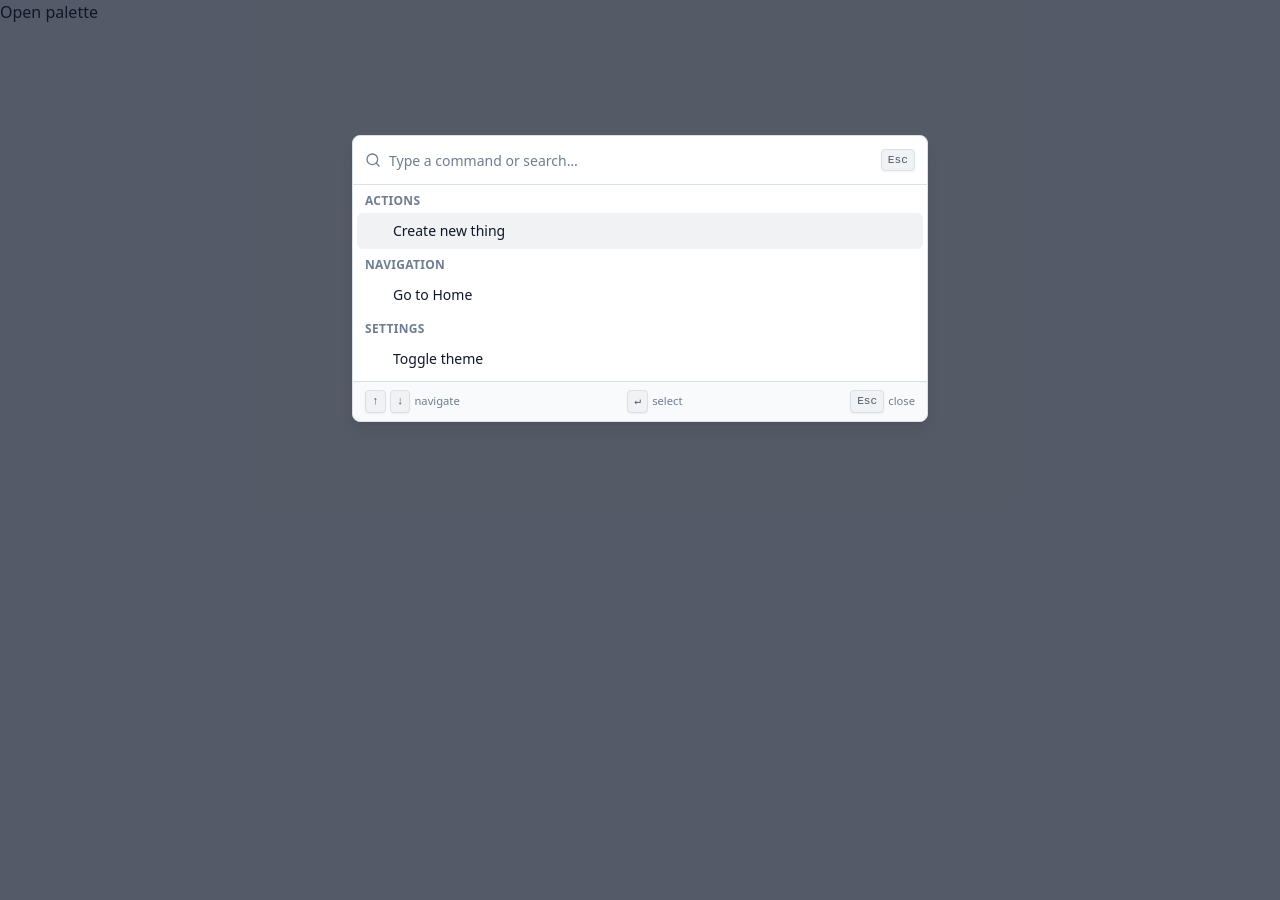
Test: CommandPalette › shows empty state when no matches
Expected: the dialog is shown, [352, 135, 928, 422]
Type "zzzzzzz" into the dropdown at x=631, y=160, box [389, 136, 873, 184]
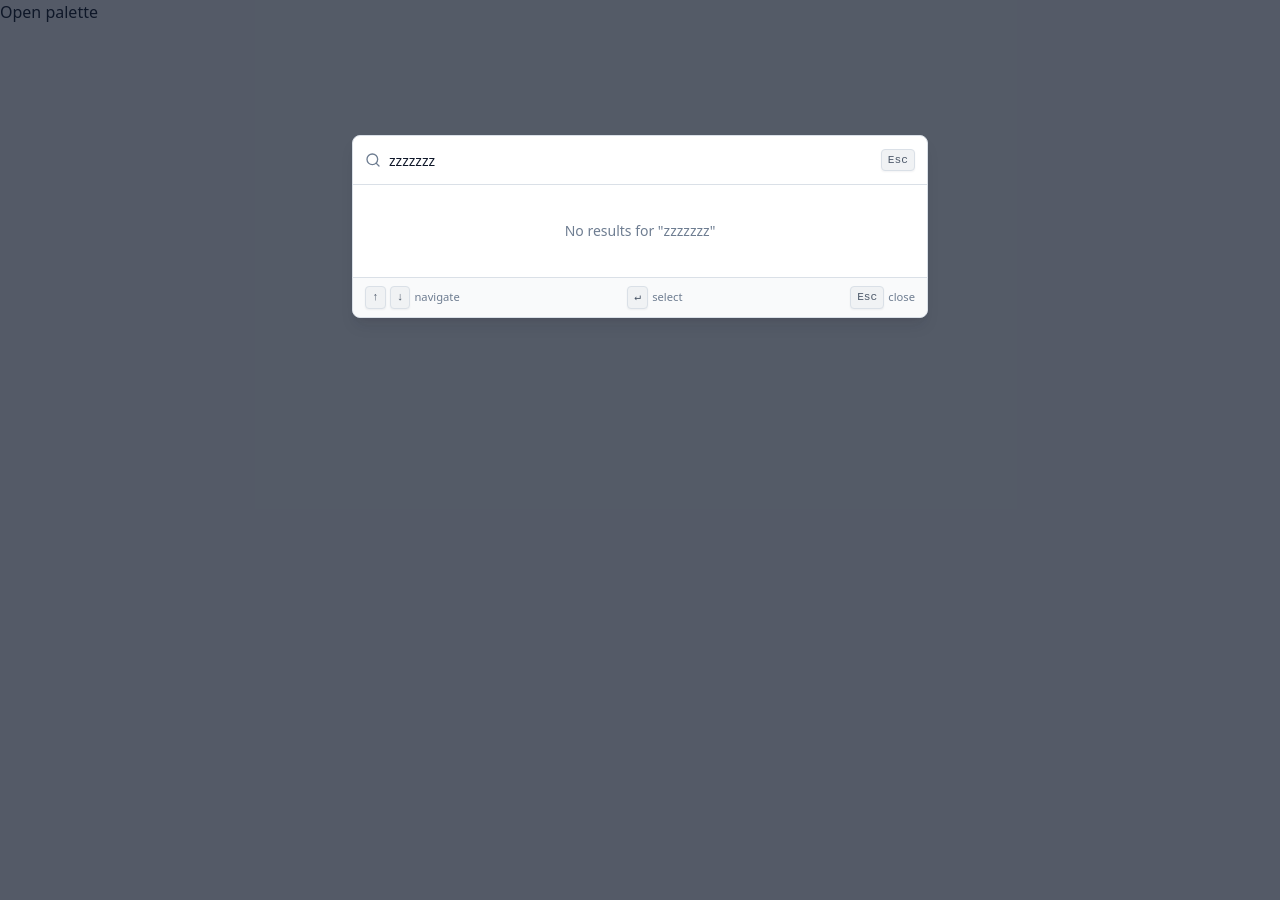
Result: the text "No results for \"zzzzzzz\"" is shown at [565, 221, 715, 240]
